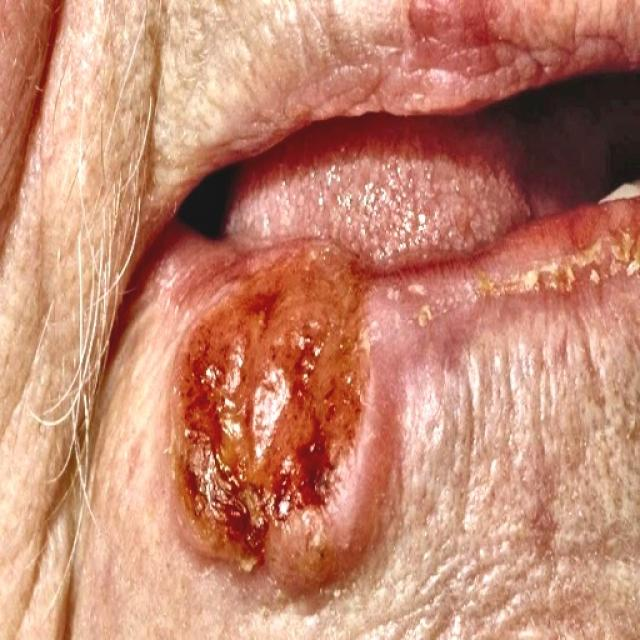cancer-detection: (151, 240, 378, 580)
processing_area: (124, 89, 639, 614)
